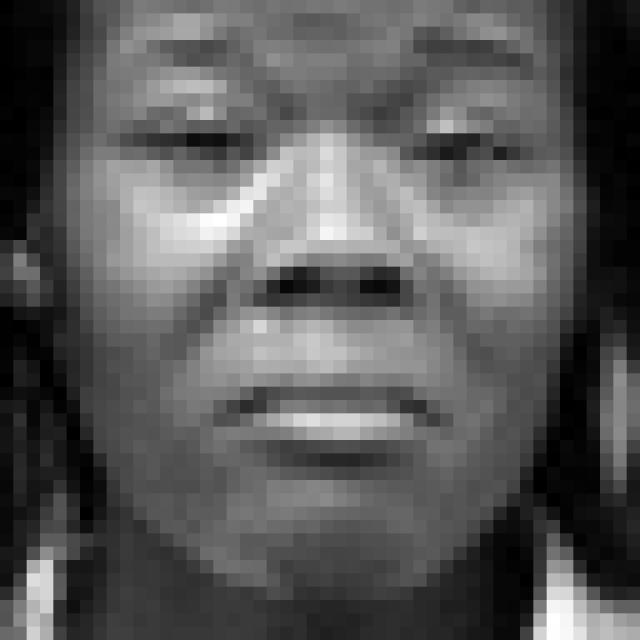sad: (107, 26, 552, 474)
